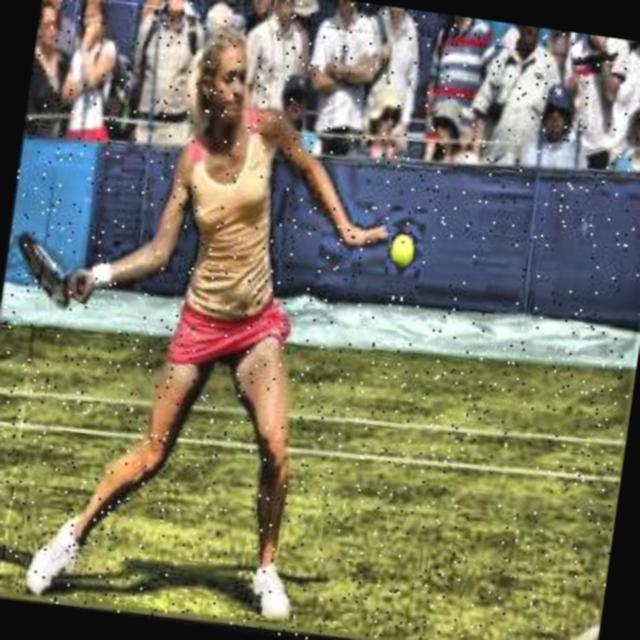Tennis Ball: (389, 236, 412, 270)
